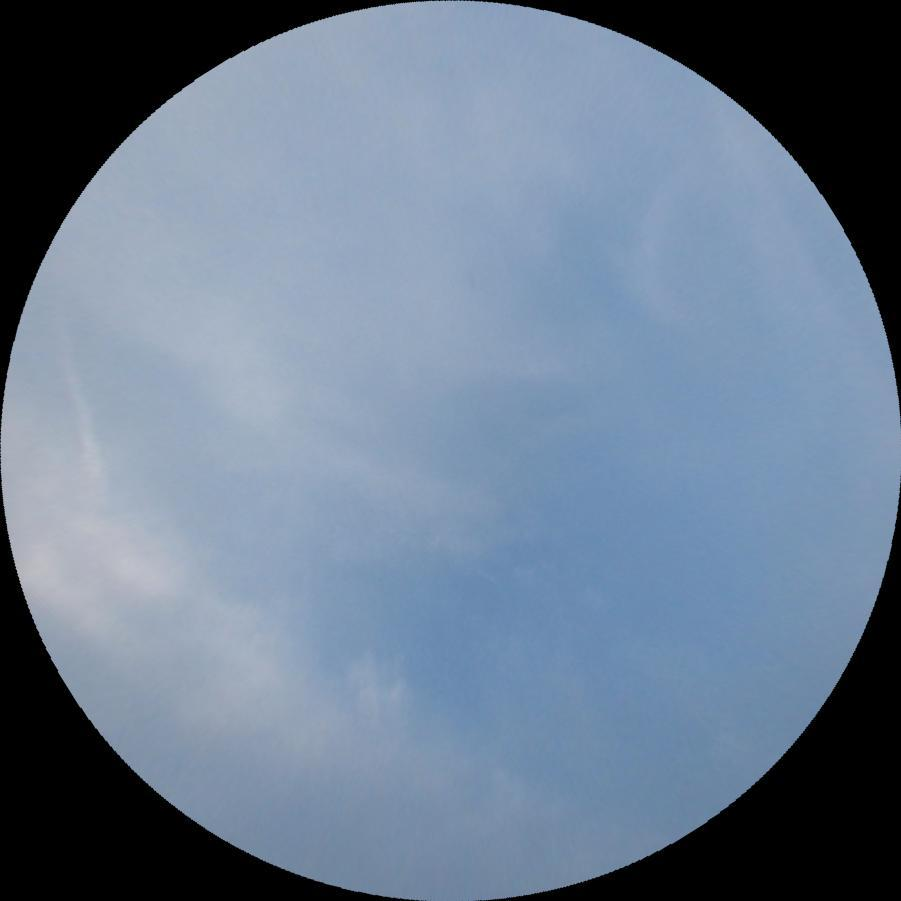contrail veryold: (42, 315, 108, 488)
